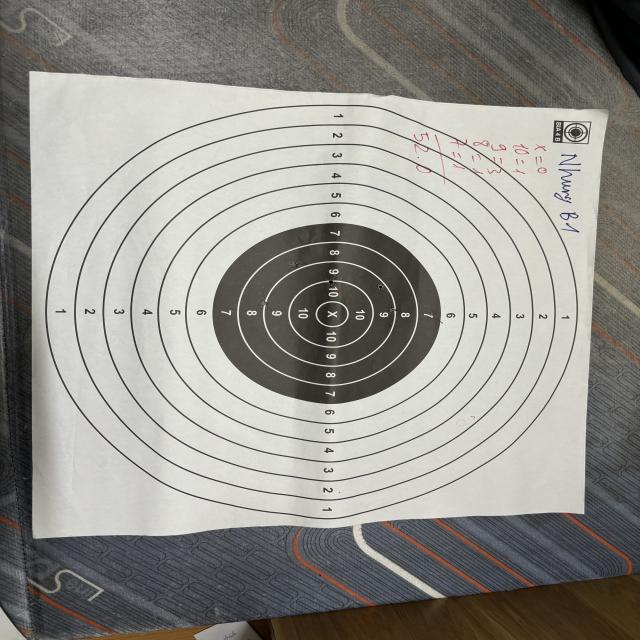bullet: (292, 260, 300, 268), (430, 311, 437, 318), (261, 300, 268, 307), (388, 307, 397, 312), (328, 279, 334, 285), (378, 284, 384, 290)
target: (31, 72, 607, 546)
